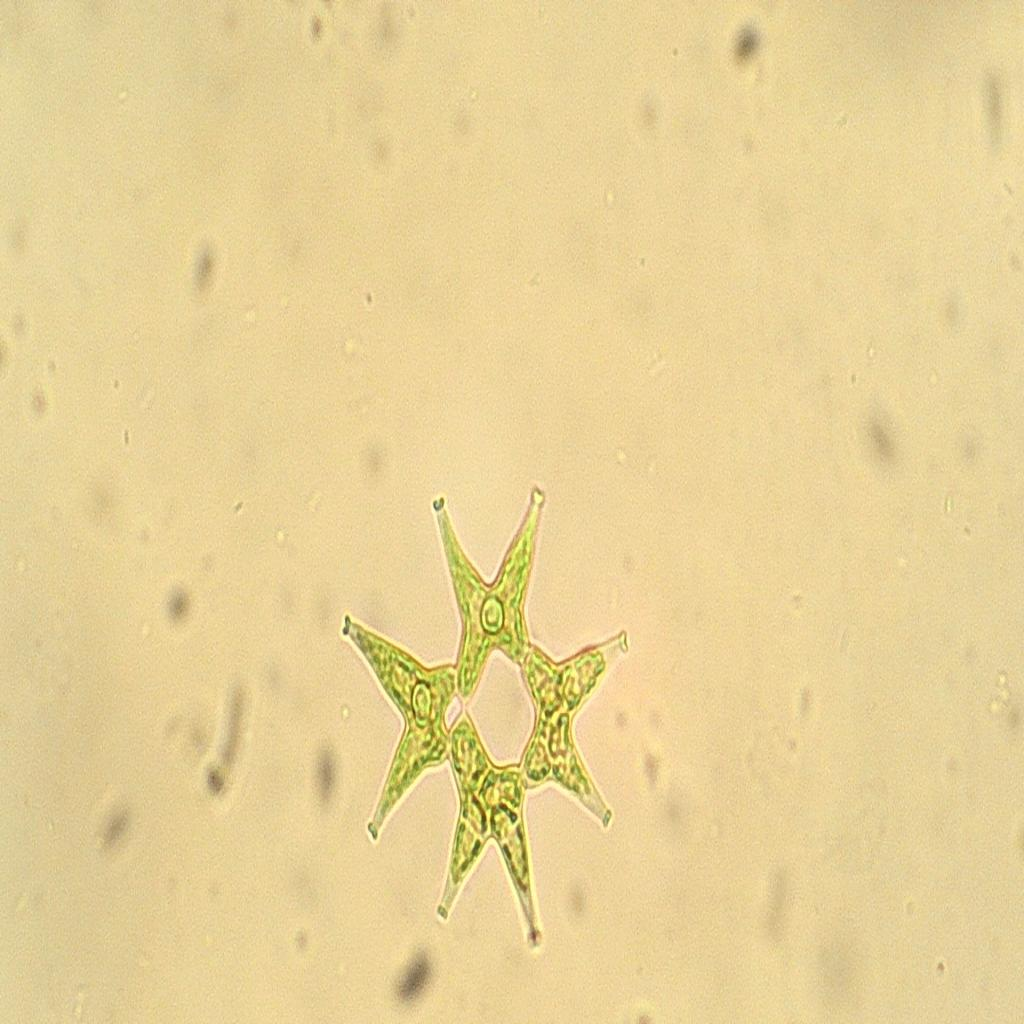Pediastrum_CF: (338, 477, 637, 967)
